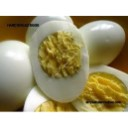begg: (30, 21, 89, 102)
